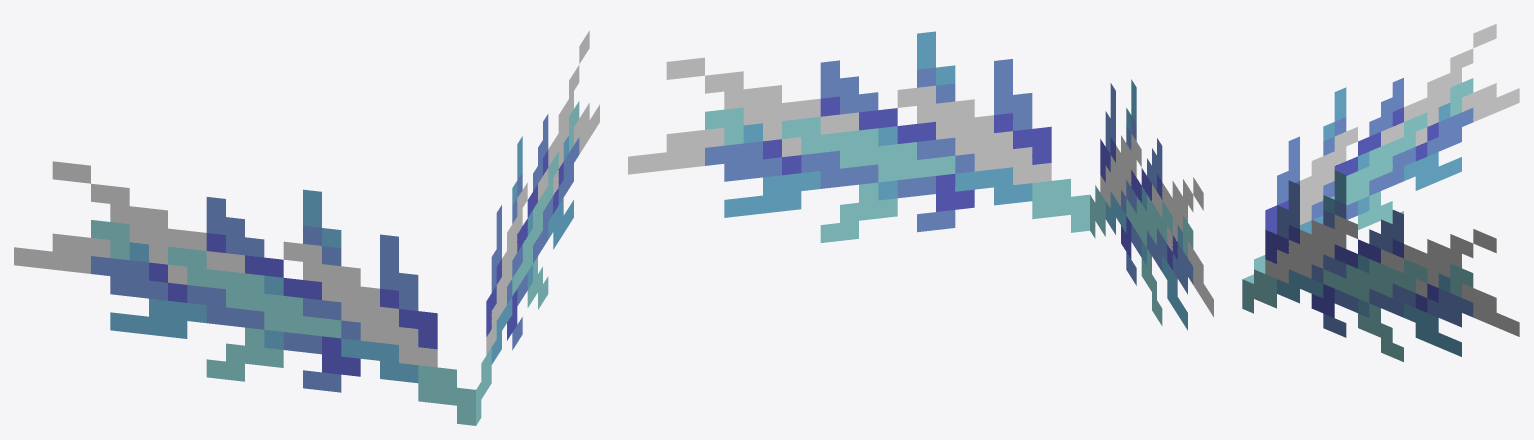
The model's file is sl_ice_wings.glb.
3 views of the same model, side by side, from view 1: azimuth 30°, elevation 25°; view 2: azimuth 150°, elevation 25°; view 3: azimuth 270°, elevation 25° (orthographic). The views are drawn at different scales.
Visible parts, largest first — view 1: bb_ice_wings; view 2: bb_ice_wings; view 3: bb_ice_wings.
Boxes of the visible parts, box(x1,y1,x2,y2) form: bb_ice_wings: box(14, 30, 599, 425); bb_ice_wings: box(628, 31, 1213, 330); bb_ice_wings: box(1242, 24, 1519, 361).
Size of the model in its own units: 2.12 by 0.75 by 1.06.
Materials: 1 (1 with a texture image).
